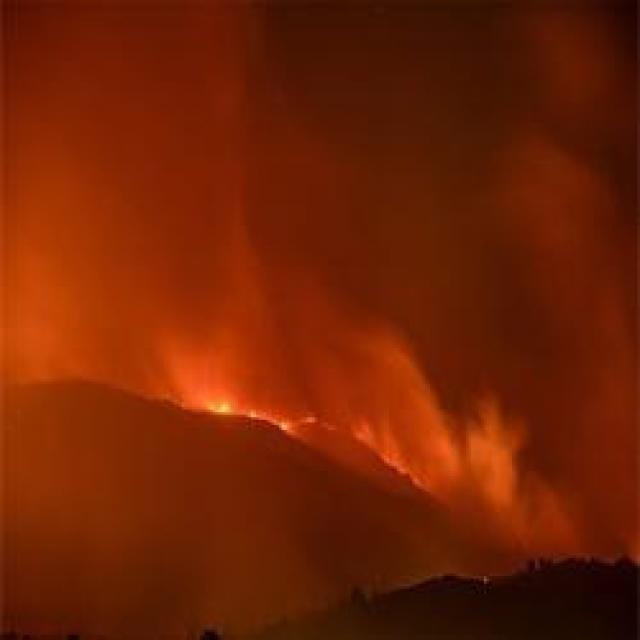fire: (198, 391, 251, 425)
